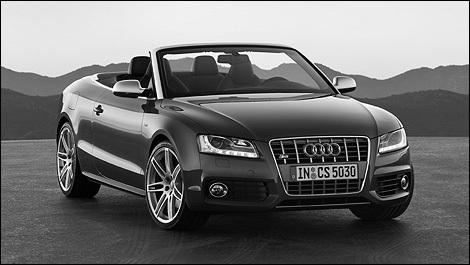car: (59, 45, 414, 228)
